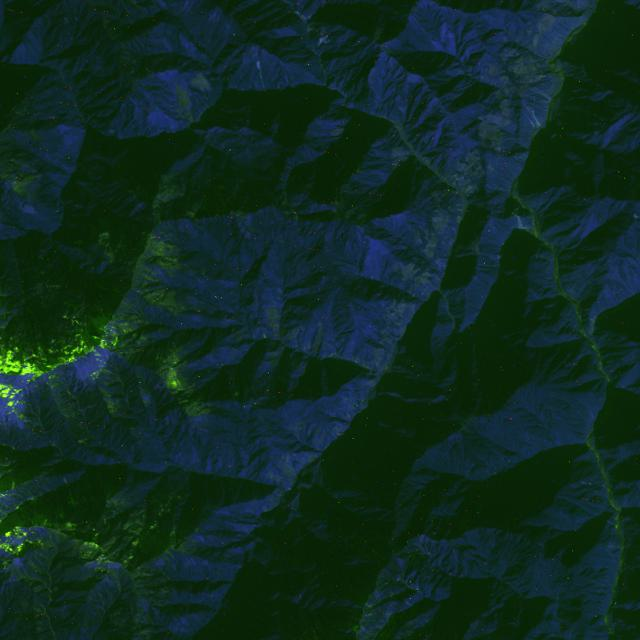landslides: (559, 92, 608, 103), (571, 36, 593, 60), (540, 299, 567, 312), (559, 107, 580, 120), (531, 87, 551, 100), (394, 380, 408, 398), (532, 108, 542, 129), (505, 163, 517, 180), (256, 60, 264, 85), (325, 358, 330, 397), (503, 199, 514, 216), (535, 292, 561, 299), (580, 478, 605, 485), (518, 226, 535, 236), (493, 183, 510, 193), (81, 403, 96, 414), (411, 548, 422, 563), (512, 204, 525, 216), (519, 154, 532, 166), (565, 18, 576, 32), (54, 377, 68, 388), (482, 253, 499, 262), (526, 237, 536, 252), (524, 114, 534, 128), (605, 549, 620, 558), (570, 17, 578, 30), (533, 97, 550, 103), (537, 256, 554, 262)
